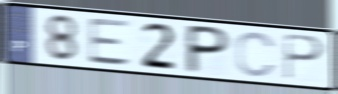2: (138, 22, 181, 73)
8: (42, 13, 80, 63)
C: (234, 30, 279, 79)
E: (86, 17, 134, 68)
P: (182, 23, 233, 75), (282, 31, 327, 82)
